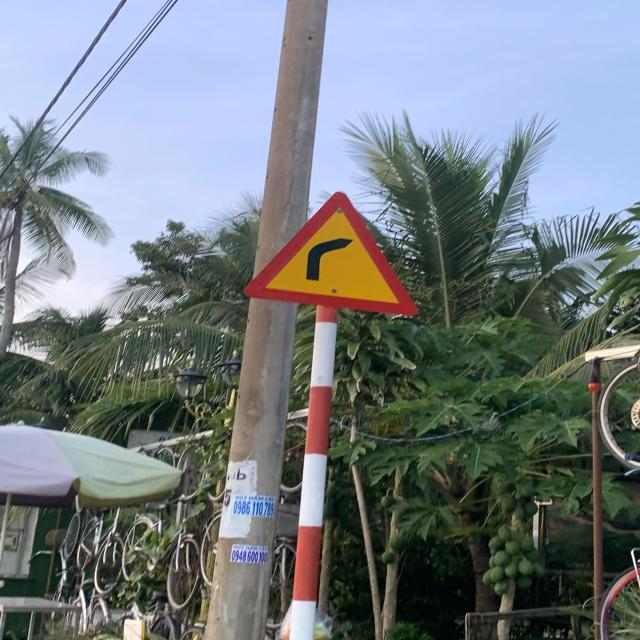Duong_Nguoi_Di_Bo_Cat_Ngang: (250, 186, 416, 314)
